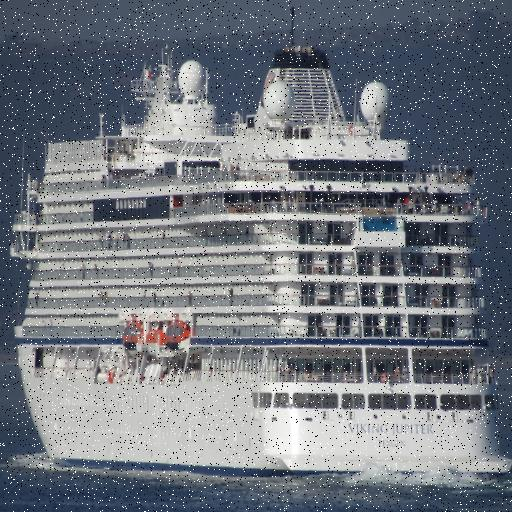cruises: (7, 41, 512, 485)
